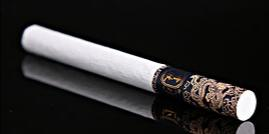Cigarette: (22, 23, 258, 122)
